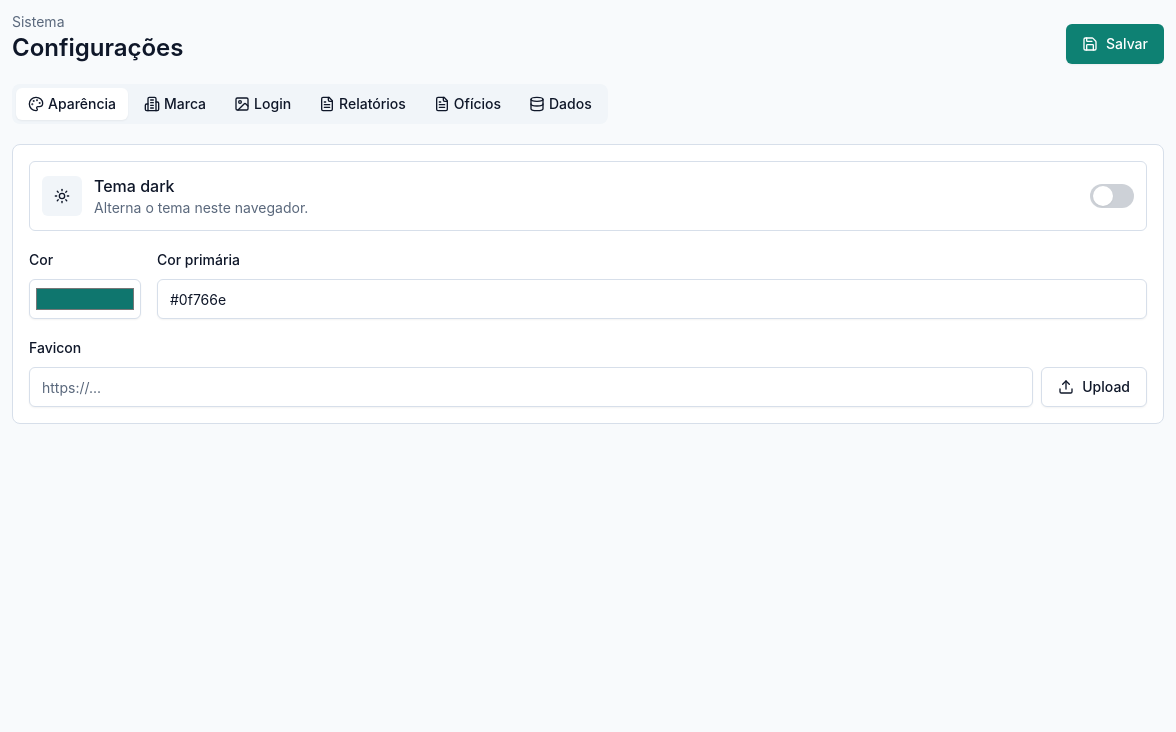
Test case: SettingsPage › toggles the active office template directly from the table
Click the tab "Ofícios". click: x=467, y=104
box: [422,88,513,120]
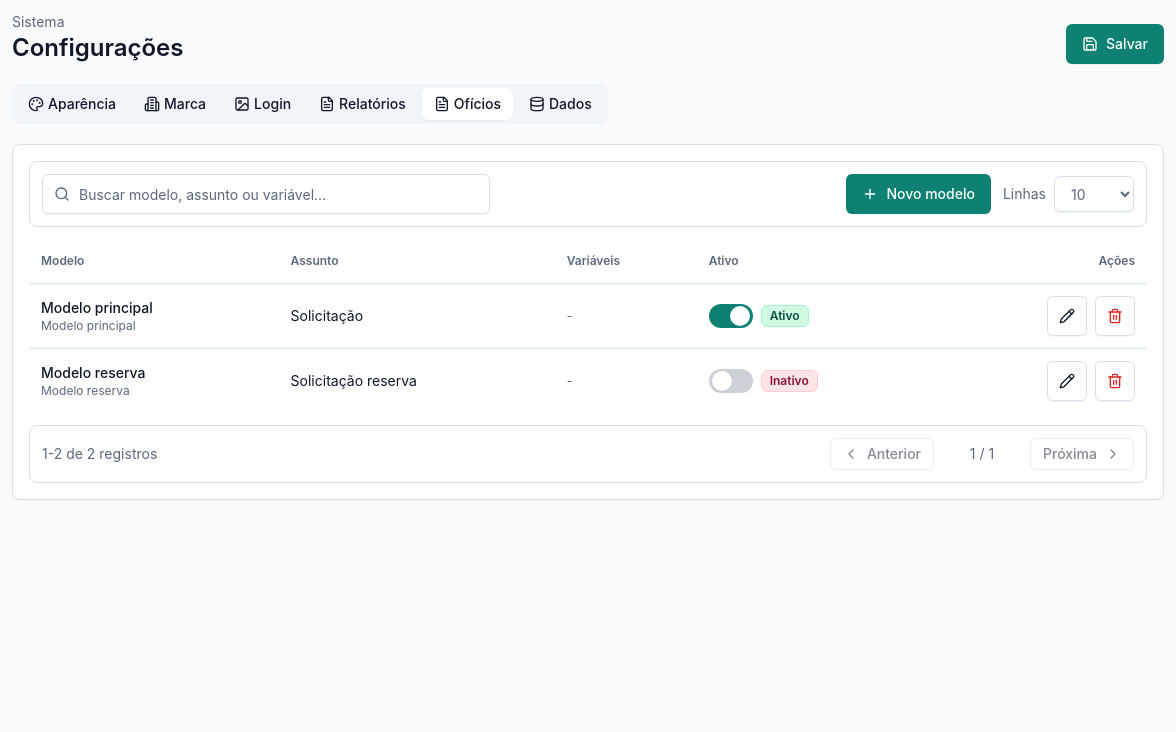
Click the switch named "Ativar Modelo reserva". click: x=731, y=380
box: [709,368,753,392]
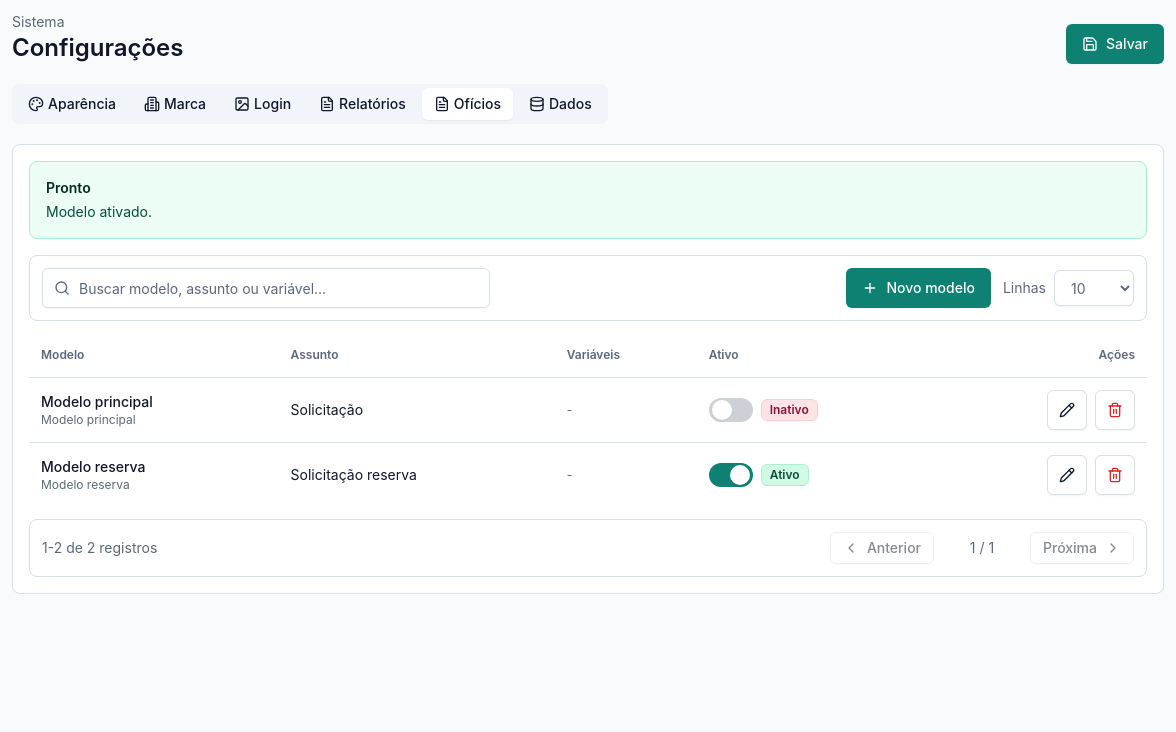
Check: the text "Modelo ativado." is shown, box [46,203,152,220]
